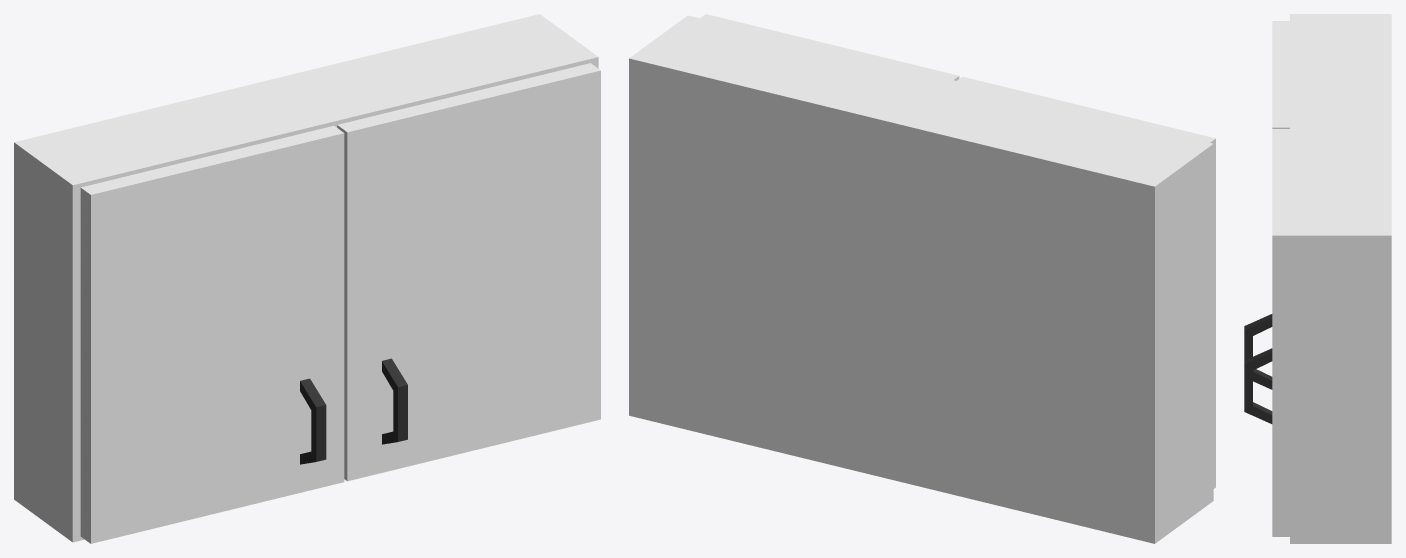
File: Cupboard_2_1.fbx
3 views of the same model, side by side, from view 1: azimuth 30°, elevation 25°; view 2: azimuth 150°, elevation 25°; view 3: azimuth 270°, elevation 25° (orthographic). The views are drawn at different scales.
Parts seen in each view (by area): view 1: polySurface1494; view 2: polySurface1494; view 3: polySurface1494.
Part boxes in pixels (left/top/right/bottom): polySurface1494: left=14, top=14, right=600, bottom=543; polySurface1494: left=629, top=14, right=1215, bottom=543; polySurface1494: left=1244, top=14, right=1391, bottom=543.
Size of the model in its own units: 1.8 by 1.17 by 0.5055.
Materials: 1 (1 with a texture image).
